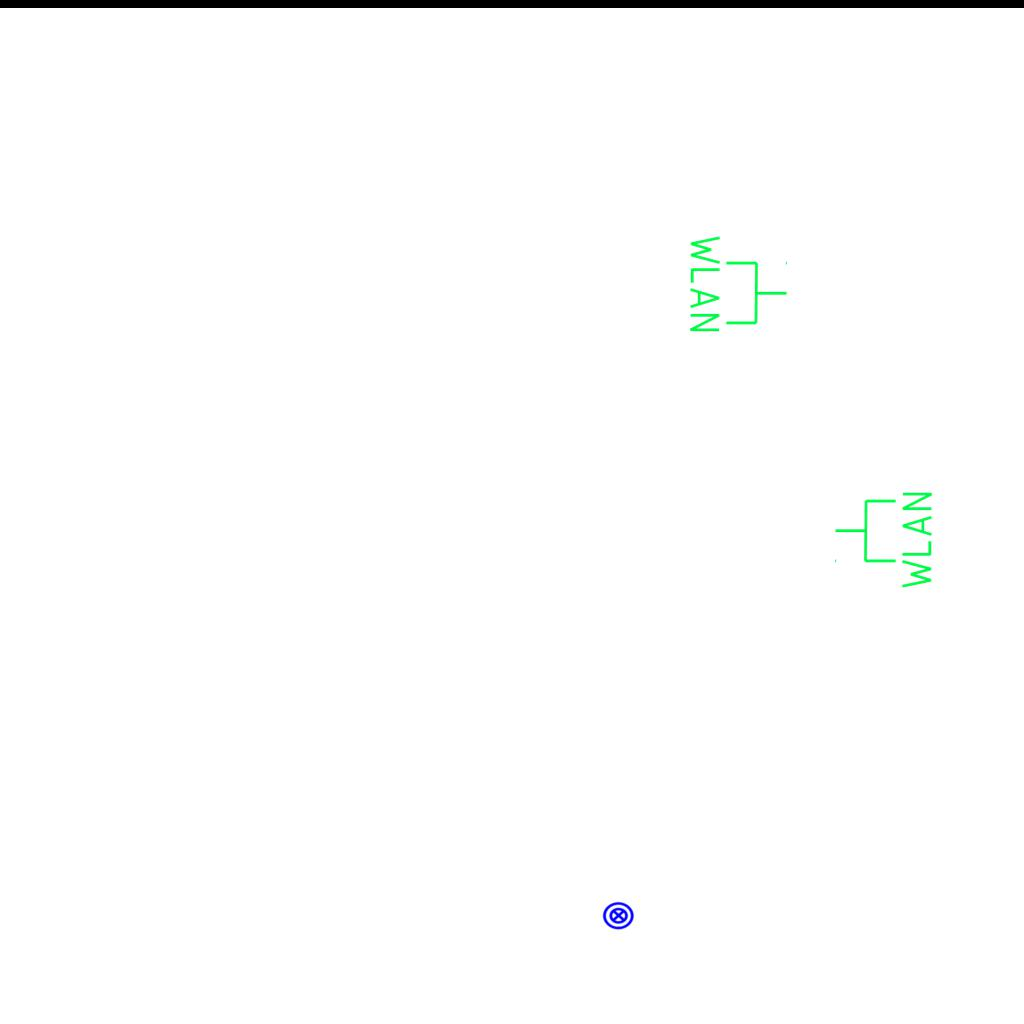Taster_beleuchtet: (602, 899, 635, 932)
WLAN: (686, 231, 790, 336), (832, 488, 936, 593)
